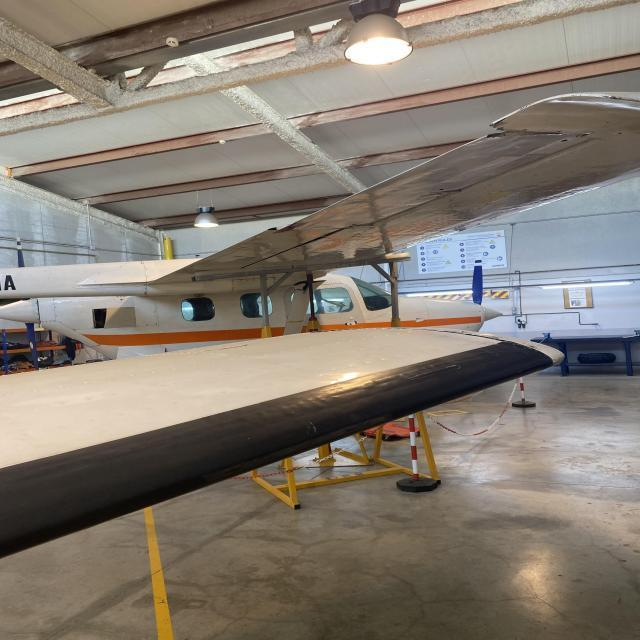Rupture: (601, 92, 622, 101), (488, 120, 498, 128)
